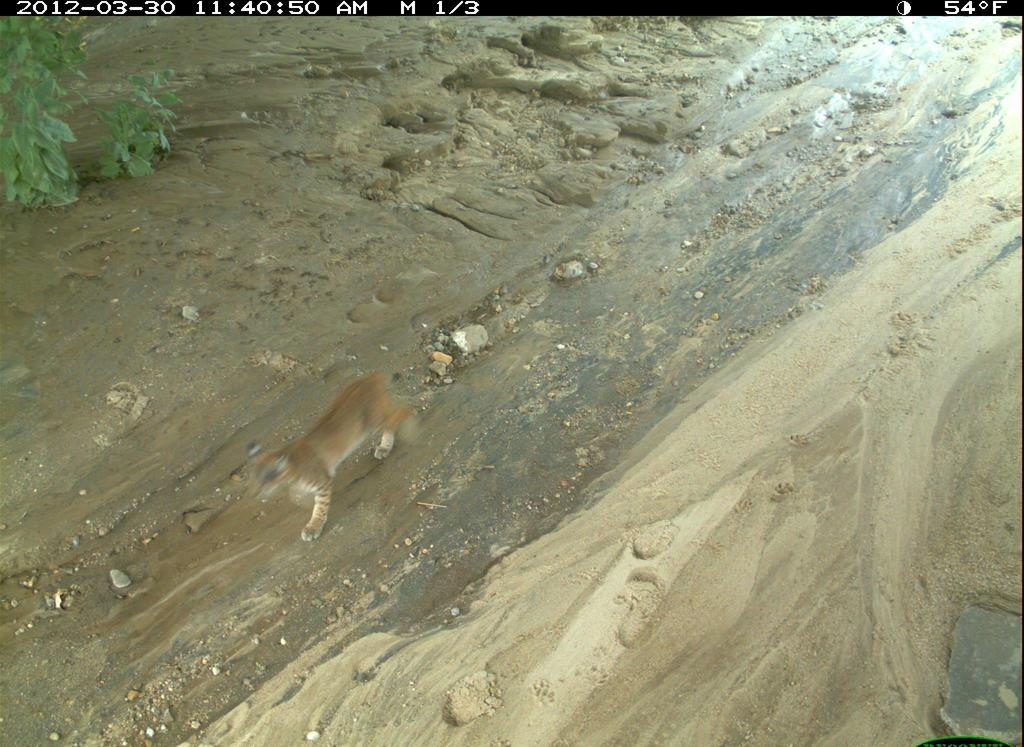bobcat: (484, 728, 839, 747)
